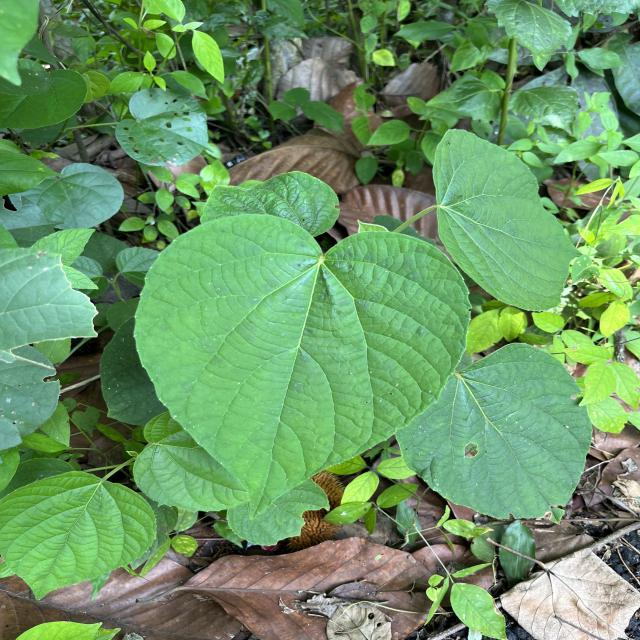Clerodendrum infortunatum: (133, 214, 476, 522), (396, 340, 596, 528), (430, 126, 586, 314), (0, 468, 158, 603)
